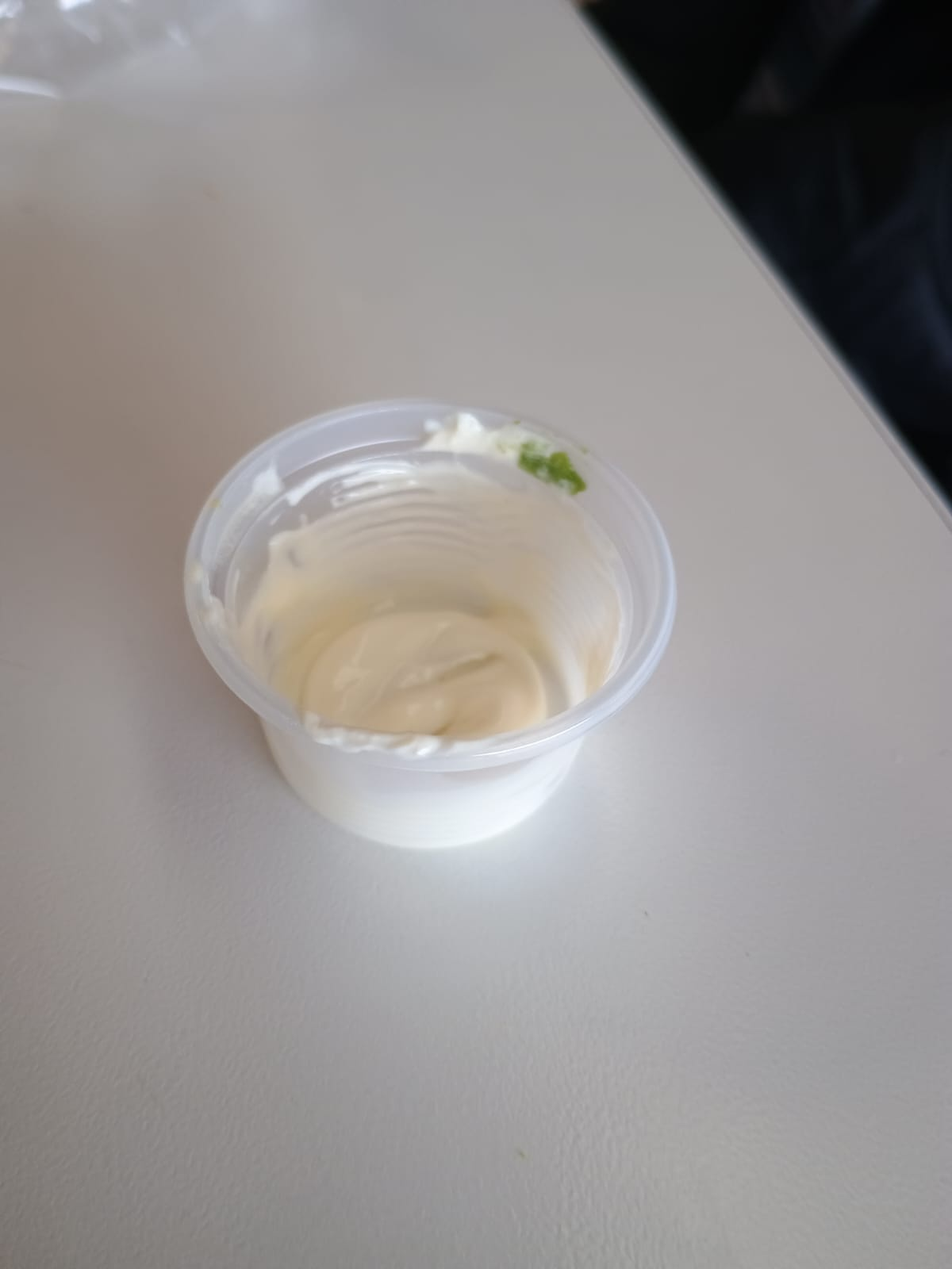Ordinario: (186, 400, 678, 855)
